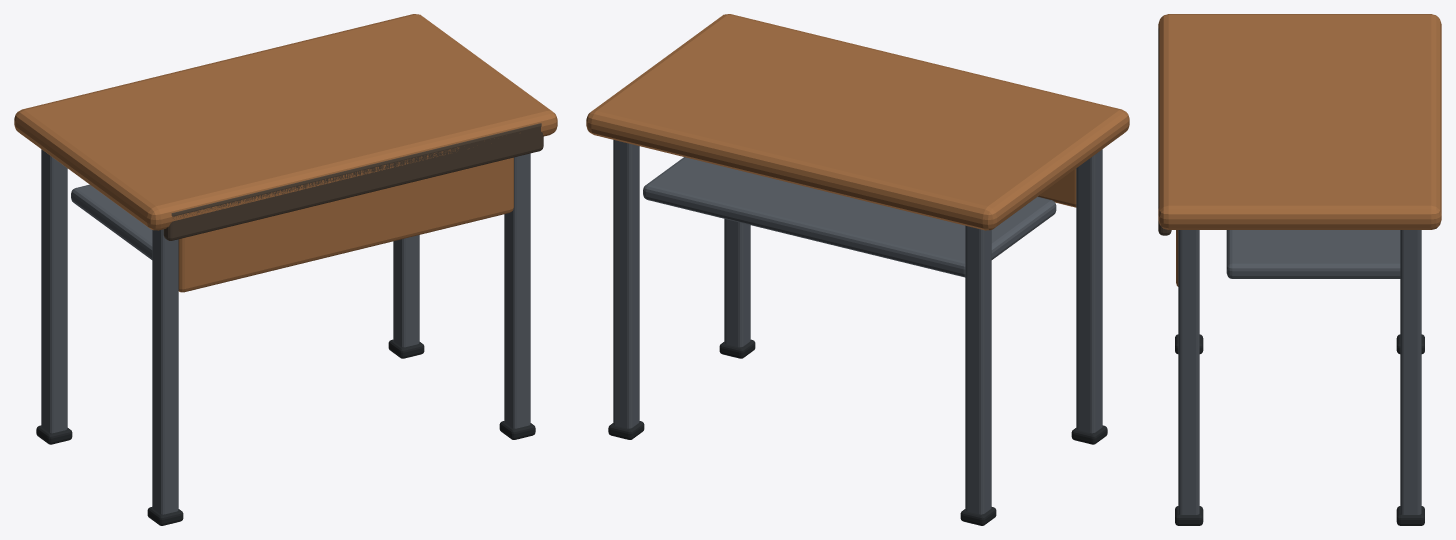
File: desk.glb
3 views of the same model, side by side, from view 1: azimuth 30°, elevation 25°; view 2: azimuth 150°, elevation 25°; view 3: azimuth 270°, elevation 25° (orthographic).
Visible parts, largest first — view 1: Desktop, FrontApron, DesktopFrontEdge, DeskLeg1, DeskLeg3, DeskLeg2, DeskLeg4, UnderDeskShelf; view 2: Desktop, UnderDeskShelf, DeskLeg3, DeskLeg4, DeskLeg1, DeskLeg2, FrontApron; view 3: Desktop, UnderDeskShelf, DeskLeg2, DeskLeg4, DesktopFrontEdge, DeskFoot2, DeskFoot4.
Boxes of the visible parts, left/top/right/bottom form: Desktop: left=14, top=14, right=557, bottom=230; FrontApron: left=178, top=157, right=513, bottom=292; DesktopFrontEdge: left=163, top=123, right=543, bottom=240; DeskLeg1: left=152, top=229, right=178, bottom=514; DeskLeg3: left=41, top=149, right=67, bottom=433; DeskLeg2: left=504, top=153, right=530, bottom=428; DeskLeg4: left=393, top=235, right=419, bottom=347; UnderDeskShelf: left=71, top=184, right=152, bottom=259; Desktop: left=586, top=14, right=1129, bottom=230; UnderDeskShelf: left=643, top=157, right=1056, bottom=277; DeskLeg3: left=965, top=225, right=991, bottom=514; DeskLeg4: left=613, top=140, right=639, bottom=428; DeskLeg1: left=1076, top=149, right=1102, bottom=433; DeskLeg2: left=724, top=219, right=750, bottom=347; FrontApron: left=1038, top=169, right=1076, bottom=207; Desktop: left=1158, top=14, right=1441, bottom=229; UnderDeskShelf: left=1226, top=230, right=1400, bottom=278; DeskLeg2: left=1178, top=230, right=1199, bottom=514; DeskLeg4: left=1400, top=230, right=1421, bottom=514; DesktopFrontEdge: left=1158, top=27, right=1171, bottom=235; DeskFoot2: left=1175, top=506, right=1203, bottom=525; DeskFoot4: left=1396, top=506, right=1424, bottom=525.
Size of the model in its own units: 1 by 0.76 by 0.6.
